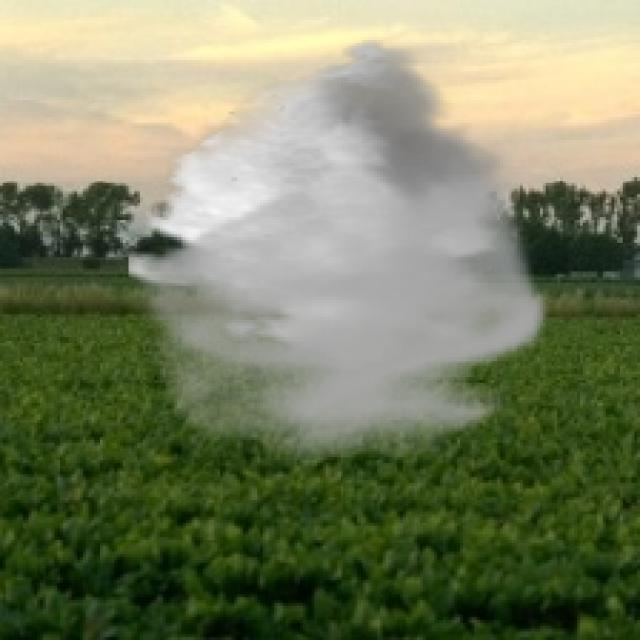Smoke: (128, 37, 554, 463)
